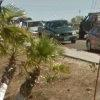Palm tree: (1, 2, 50, 70)
